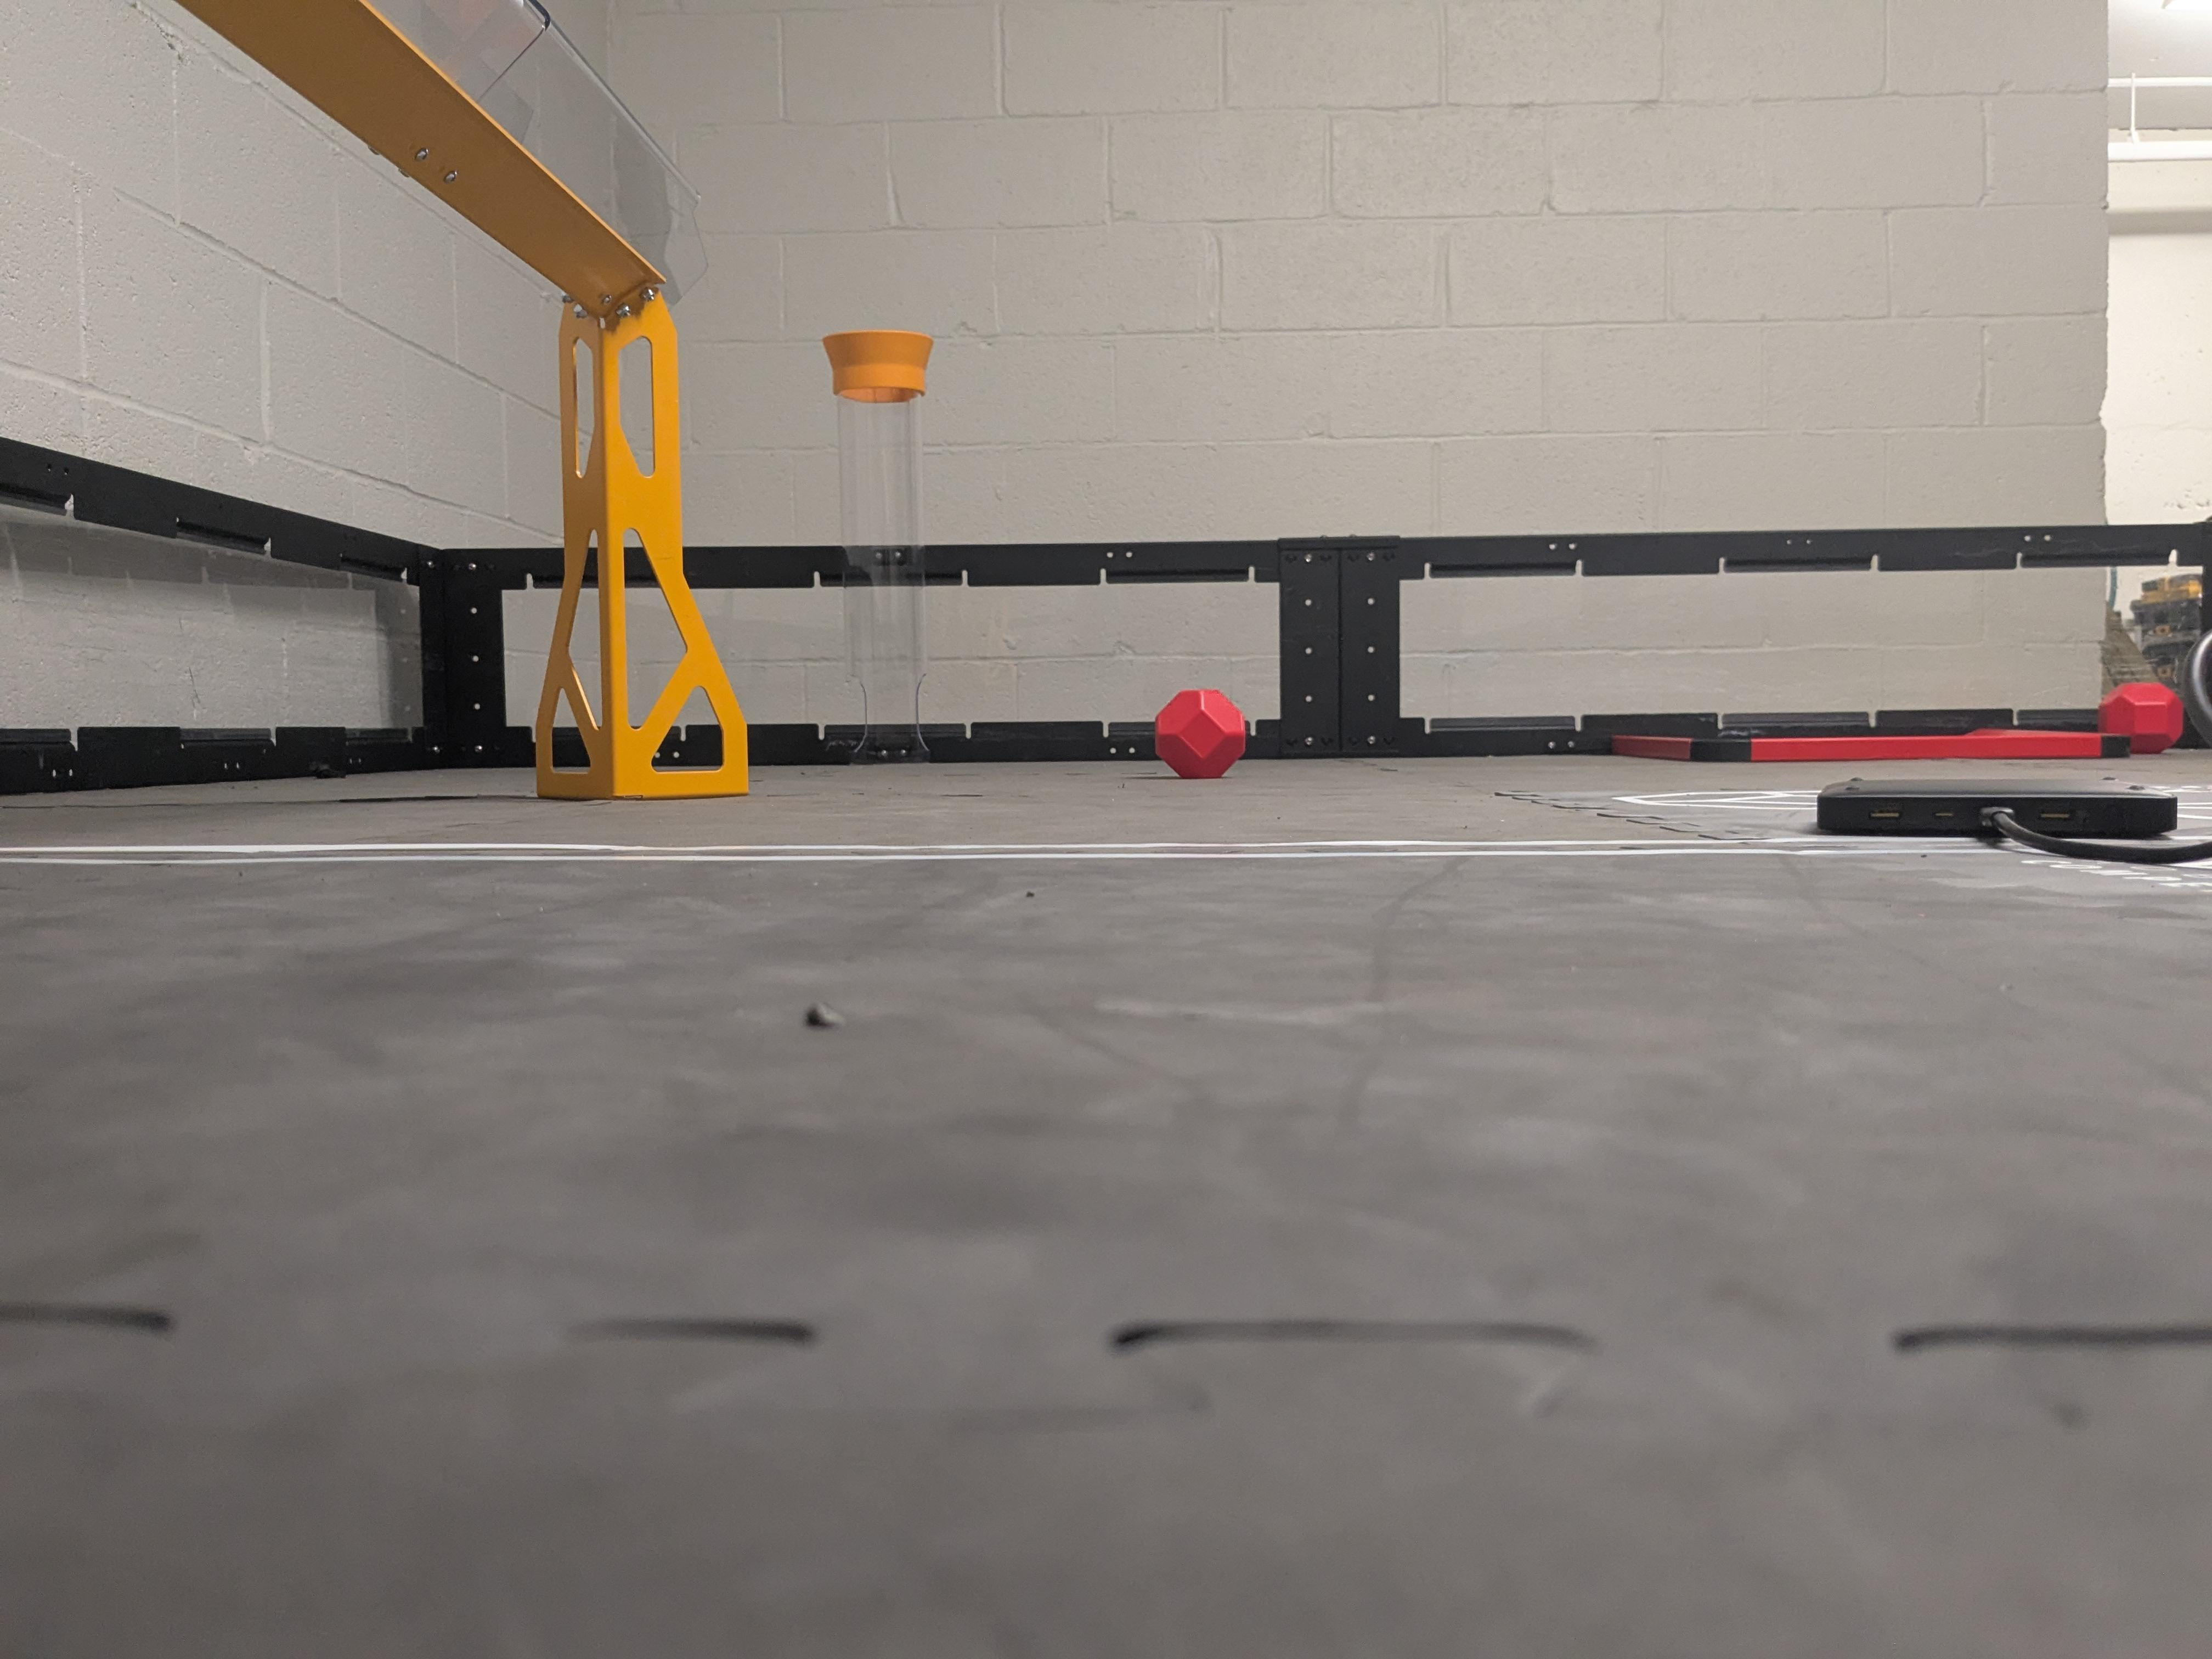Vex-Pieces-RED: (1157, 688, 1247, 779), (2099, 681, 2184, 755)
